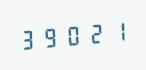nine: (40, 22, 61, 50)
one: (106, 17, 127, 45)
three: (18, 24, 39, 52)
two: (84, 19, 105, 47)
zero: (62, 20, 83, 49)
